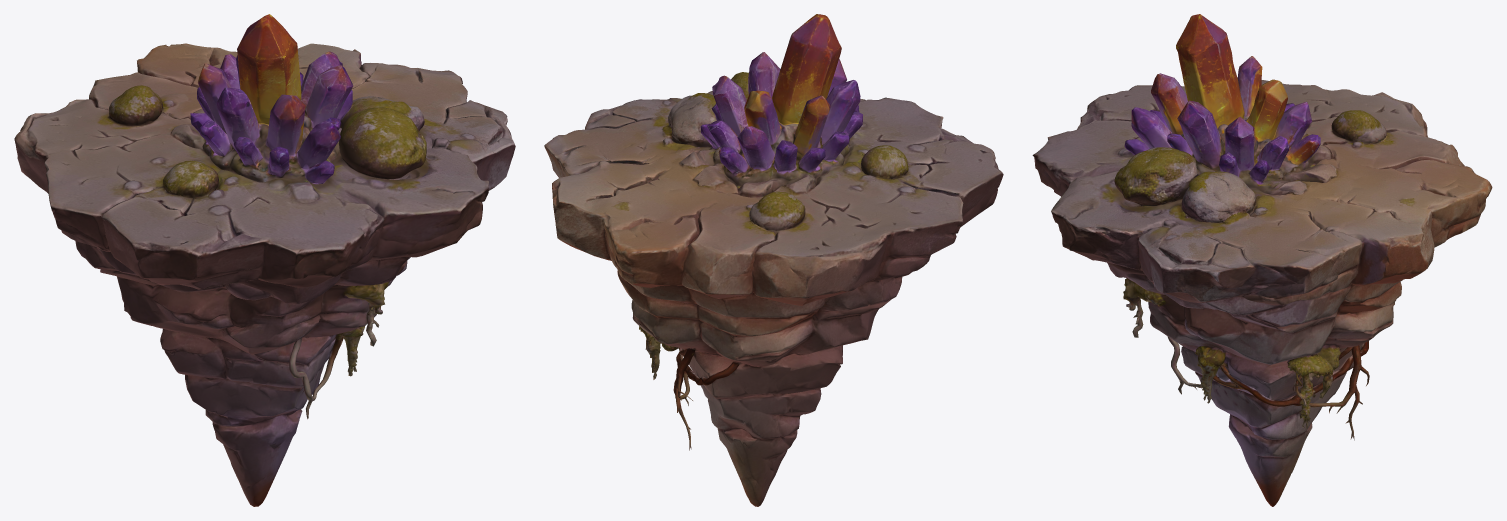
File: island-b.glb
3 views of the same model, side by side, from view 1: azimuth 30°, elevation 25°; view 2: azimuth 150°, elevation 25°; view 3: azimuth 270°, elevation 25° (orthographic). The views are drawn at different scales.
Visible parts, largest first — view 1: tripo_node_1d1260d1-014e-4d67-a7c9-3680b6347ef5; view 2: tripo_node_1d1260d1-014e-4d67-a7c9-3680b6347ef5; view 3: tripo_node_1d1260d1-014e-4d67-a7c9-3680b6347ef5.
Boxes of the visible parts, x1=… form: tripo_node_1d1260d1-014e-4d67-a7c9-3680b6347ef5: x1=14, y1=14, x2=515, y2=506; tripo_node_1d1260d1-014e-4d67-a7c9-3680b6347ef5: x1=544, y1=14, x2=1003, y2=506; tripo_node_1d1260d1-014e-4d67-a7c9-3680b6347ef5: x1=1032, y1=14, x2=1492, y2=506.
Size of the model in its own units: 2.16 by 2.5 by 2.18.
Materials: 1 (1 with a texture image).
